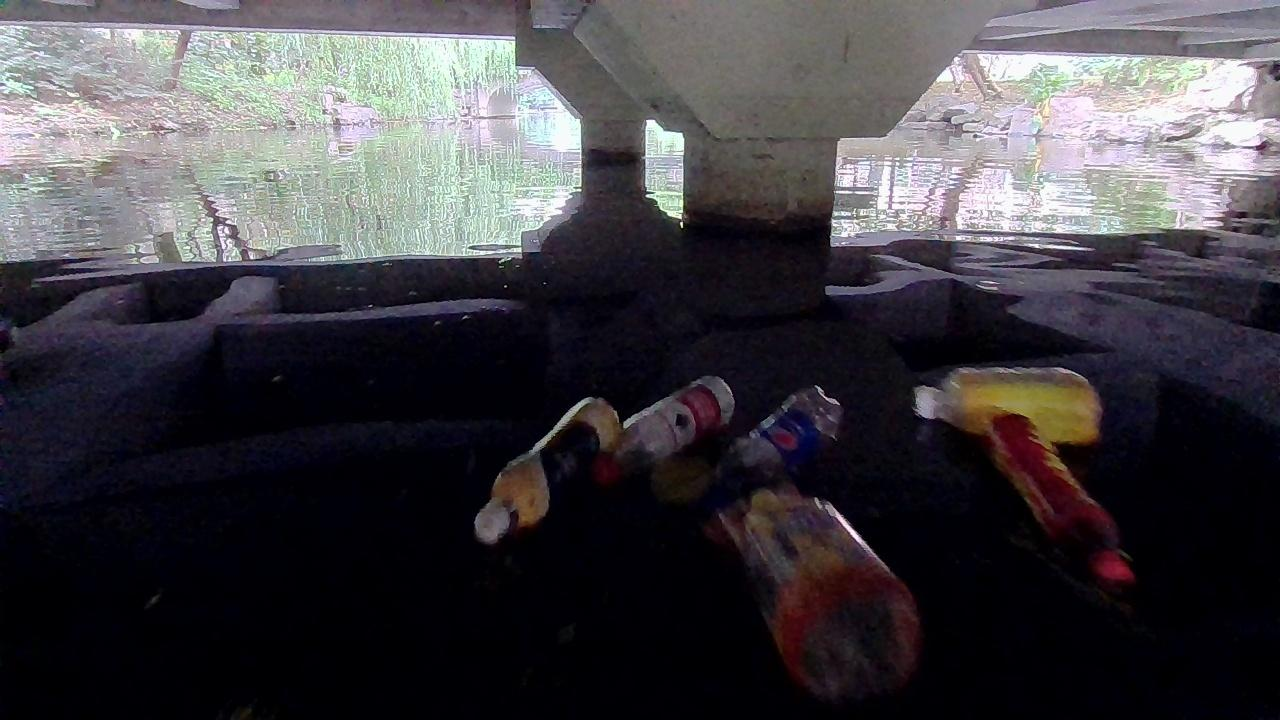bottle: (721, 485, 933, 695), (985, 418, 1141, 586), (468, 396, 617, 546), (593, 372, 735, 484), (706, 381, 843, 490), (913, 361, 1093, 443)
